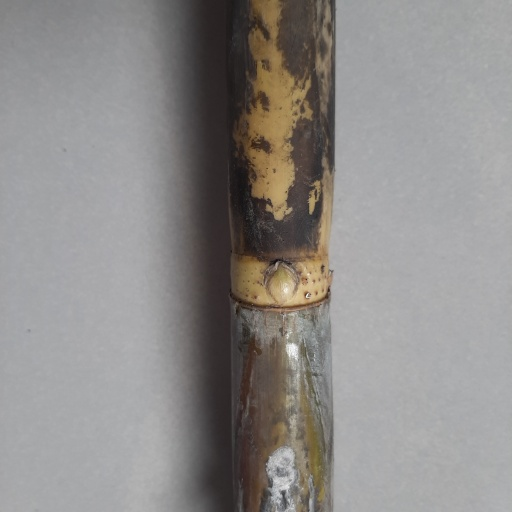Bud: (264, 261, 299, 307)
